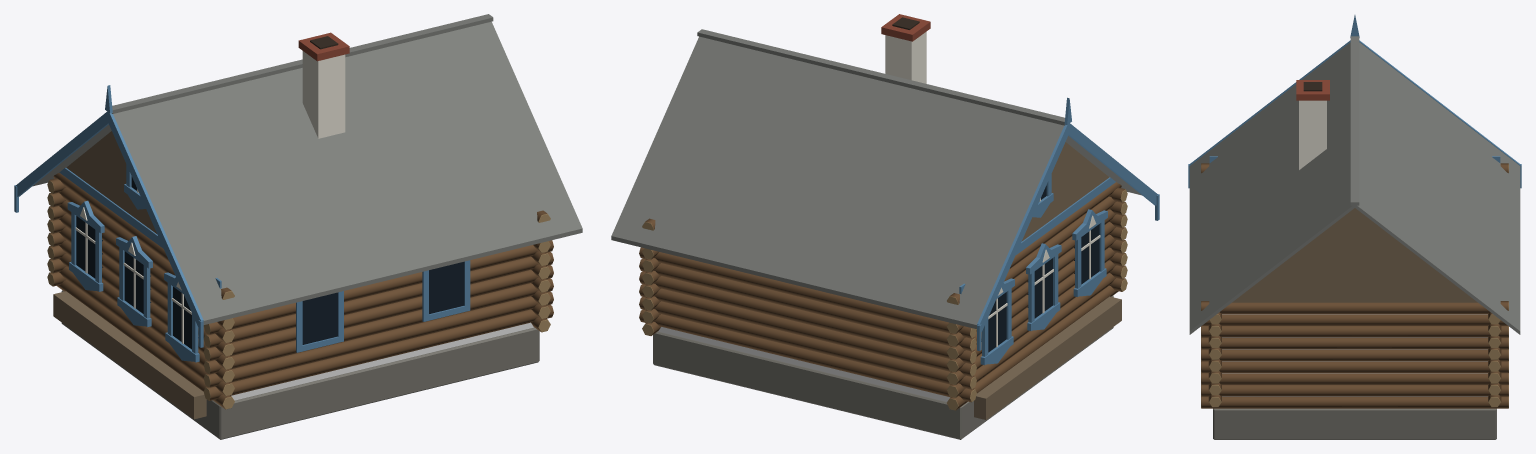
File: izba-srub-1.glb
3 views of the same model, side by side, from view 1: azimuth 30°, elevation 25°; view 2: azimuth 150°, elevation 25°; view 3: azimuth 270°, elevation 25° (orthographic). The views are drawn at different scales.
Parts seen in each view (by area): view 1: 05_paint2, 02_paint1, 00_#77756e, 06_paint0, 04_#7a6a56, 07_#1c2630, 08_#e6e2d6, 03_#a08660, solid, 09_#8a4a3a; view 2: 05_paint2, 02_paint1, 00_#77756e, 06_paint0, 04_#7a6a56, 03_#a08660, 08_#e6e2d6, 07_#1c2630, solid, 09_#8a4a3a; view 3: 05_paint2, 02_paint1, 04_#7a6a56, 00_#77756e, 03_#a08660, 08_#e6e2d6, solid, 06_paint0, 09_#8a4a3a.
Part boxes in pixels (x1,y1,x2,y2): 05_paint2: [32, 14, 582, 324]; 02_paint1: [49, 172, 553, 409]; 00_#77756e: [61, 290, 539, 439]; 06_paint0: [14, 85, 470, 362]; 04_#7a6a56: [53, 131, 206, 419]; 07_#1c2630: [76, 176, 464, 349]; 08_#e6e2d6: [75, 51, 345, 343]; 03_#a08660: [47, 180, 553, 409]; solid: [231, 322, 533, 400]; 09_#8a4a3a: [298, 32, 349, 61]; 05_paint2: [611, 29, 1141, 329]; 02_paint1: [639, 182, 1125, 410]; 00_#77756e: [653, 296, 1113, 439]; 06_paint0: [959, 97, 1159, 365]; 04_#7a6a56: [974, 142, 1121, 419]; 03_#a08660: [639, 189, 1127, 410]; 08_#e6e2d6: [885, 31, 1100, 347]; 07_#1c2630: [981, 185, 1099, 352]; solid: [658, 327, 950, 401]; 09_#8a4a3a: [881, 14, 930, 41]; 05_paint2: [1189, 36, 1520, 334]; 02_paint1: [1201, 163, 1508, 408]; 04_#7a6a56: [1232, 208, 1477, 302]; 00_#77756e: [1213, 408, 1496, 439]; 03_#a08660: [1201, 164, 1508, 407]; 08_#e6e2d6: [1299, 100, 1326, 169]; solid: [1222, 314, 1487, 396]; 06_paint0: [1188, 15, 1521, 188]; 09_#8a4a3a: [1296, 80, 1329, 100].
Size of the model in its own units: 8.5 by 6.75 by 7.16.
